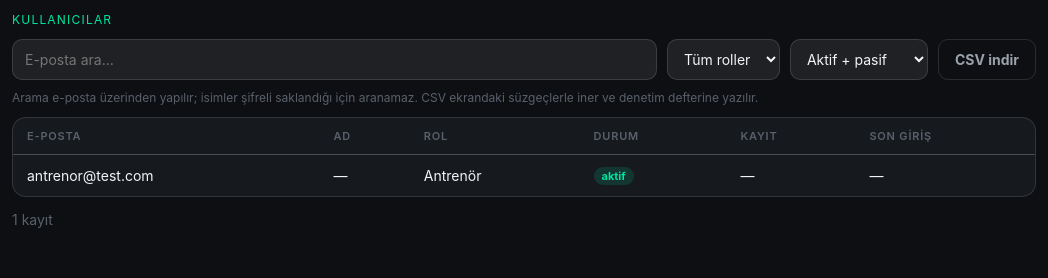
Test case: UsersPage Bileşen Testleri › ayrıntı açılamazsa hata görünür
Check: the text "antrenor@test.com" is shown, box [13, 154, 320, 196]
Click the row "antrenor@test.com — Antrenör aktif — —": (90, 176) [13, 154, 1035, 196]
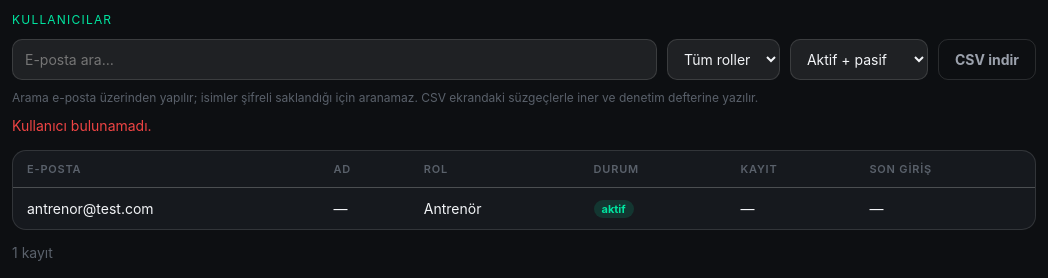
Check: the text "Kullanıcı bulunamadı." is shown, box [12, 117, 152, 134]
